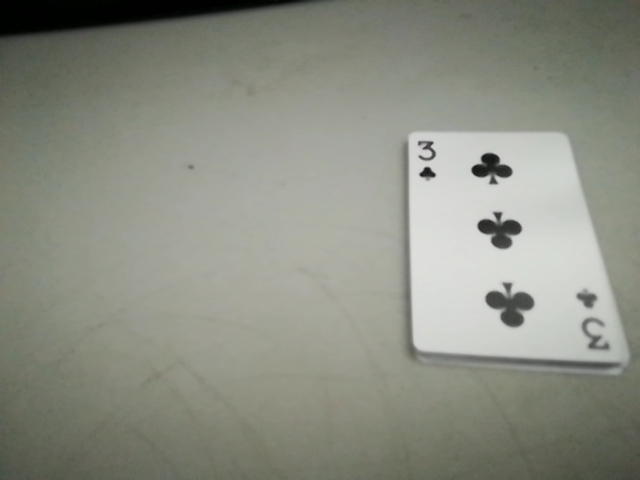mh 3: (570, 280, 612, 357), (410, 134, 457, 185)
